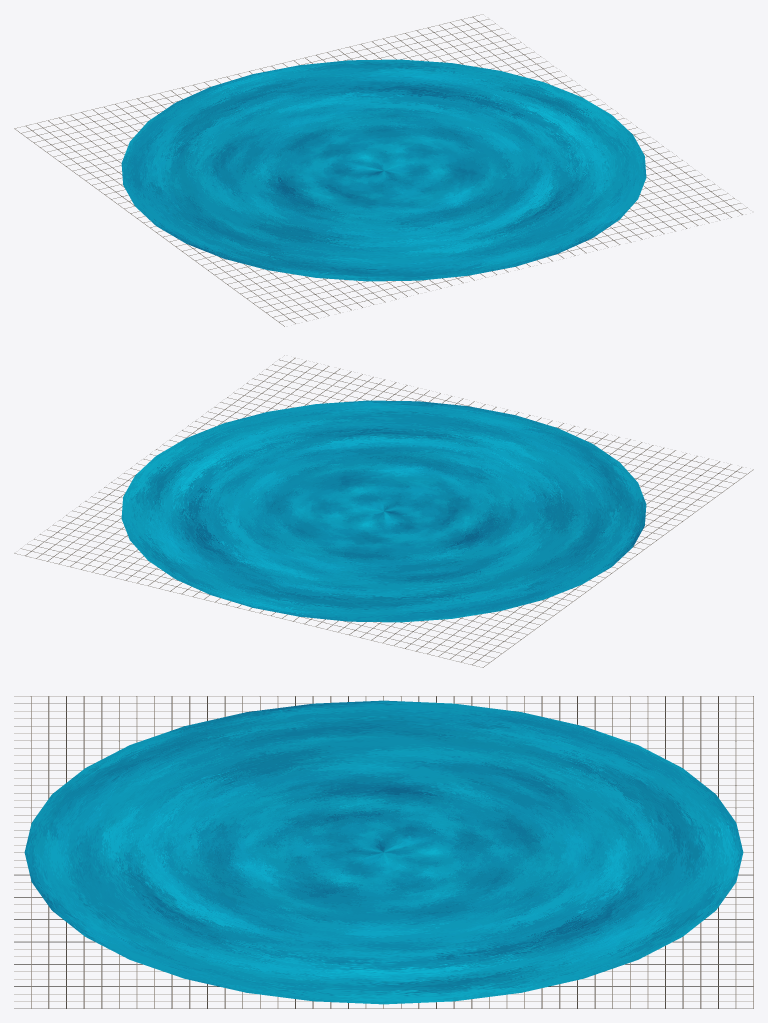
Rendered from Water_Circle_2_Midpoly.glb.
3 renders of one model, top to bottom at view 1: azimuth 30°, elevation 25°; view 2: azimuth 150°, elevation 25°; view 3: azimuth 270°, elevation 25°, orthographic. The views are drawn at different scales.
Parts seen in each view (by area): view 1: Water_Circle_2_Midpoly, Floor; view 2: Water_Circle_2_Midpoly, Floor; view 3: Water_Circle_2_Midpoly, Floor.
Part boxes in pixels (x1=…): Water_Circle_2_Midpoly: x1=121, y1=59, x2=646, y2=281; Floor: x1=14, y1=14, x2=747, y2=326; Water_Circle_2_Midpoly: x1=121, y1=400, x2=646, y2=622; Floor: x1=14, y1=355, x2=753, y2=667; Water_Circle_2_Midpoly: x1=24, y1=700, x2=743, y2=1004; Floor: x1=14, y1=696, x2=753, y2=1008.
Bounding box in the file's own units: 4200 × 0.000854 × 4200.
Materials: 2 (2 with a texture image).
